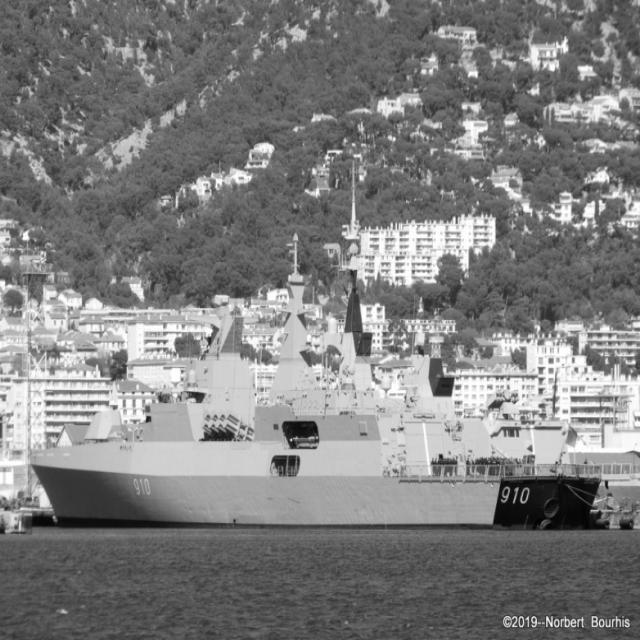Fragata: (25, 231, 607, 532)
